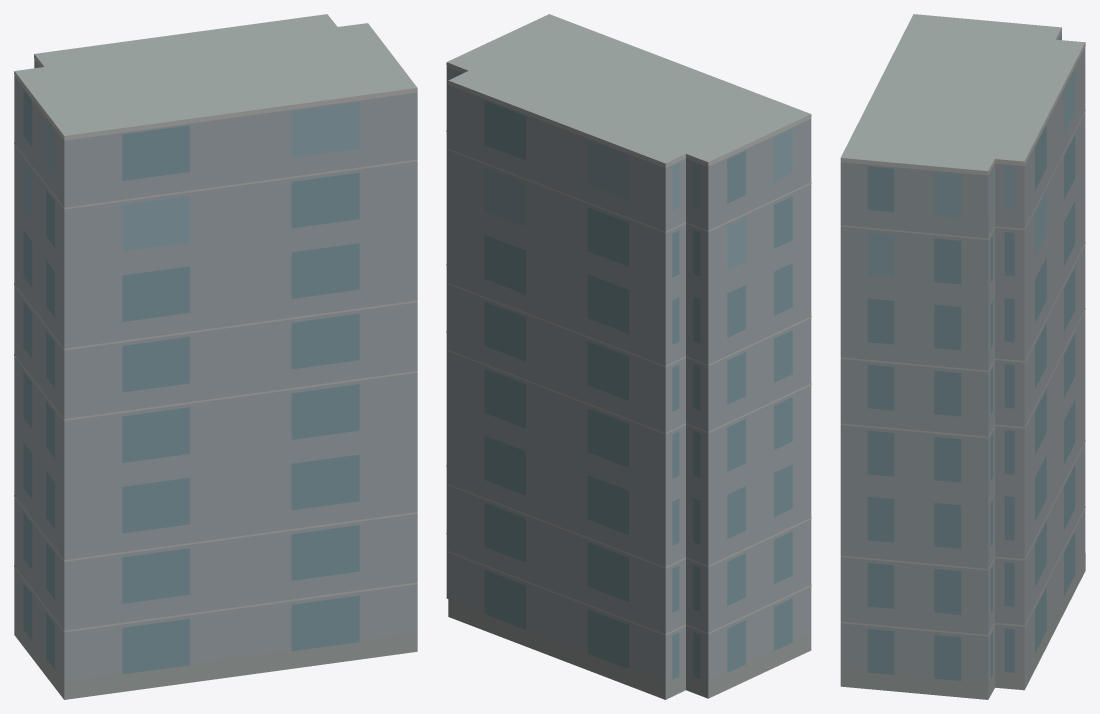
File: survey-upis-33041287.glb
3 renders of one model, left to right at view 1: azimuth 30°, elevation 25°; view 2: azimuth 150°, elevation 25°; view 3: azimuth 270°, elevation 25°, orthographic. The views are drawn at different scales.
Parts seen in each view (by area): view 1: survey-upis-33041287.tmp; view 2: survey-upis-33041287.tmp; view 3: survey-upis-33041287.tmp.
Boxes of the visible parts, x1=… form: survey-upis-33041287.tmp: x1=14, y1=14, x2=417, y2=699; survey-upis-33041287.tmp: x1=446, y1=14, x2=811, y2=699; survey-upis-33041287.tmp: x1=840, y1=14, x2=1085, y2=699.
Bounding box in the file's own units: 18.46 × 28.9 × 12.16.
